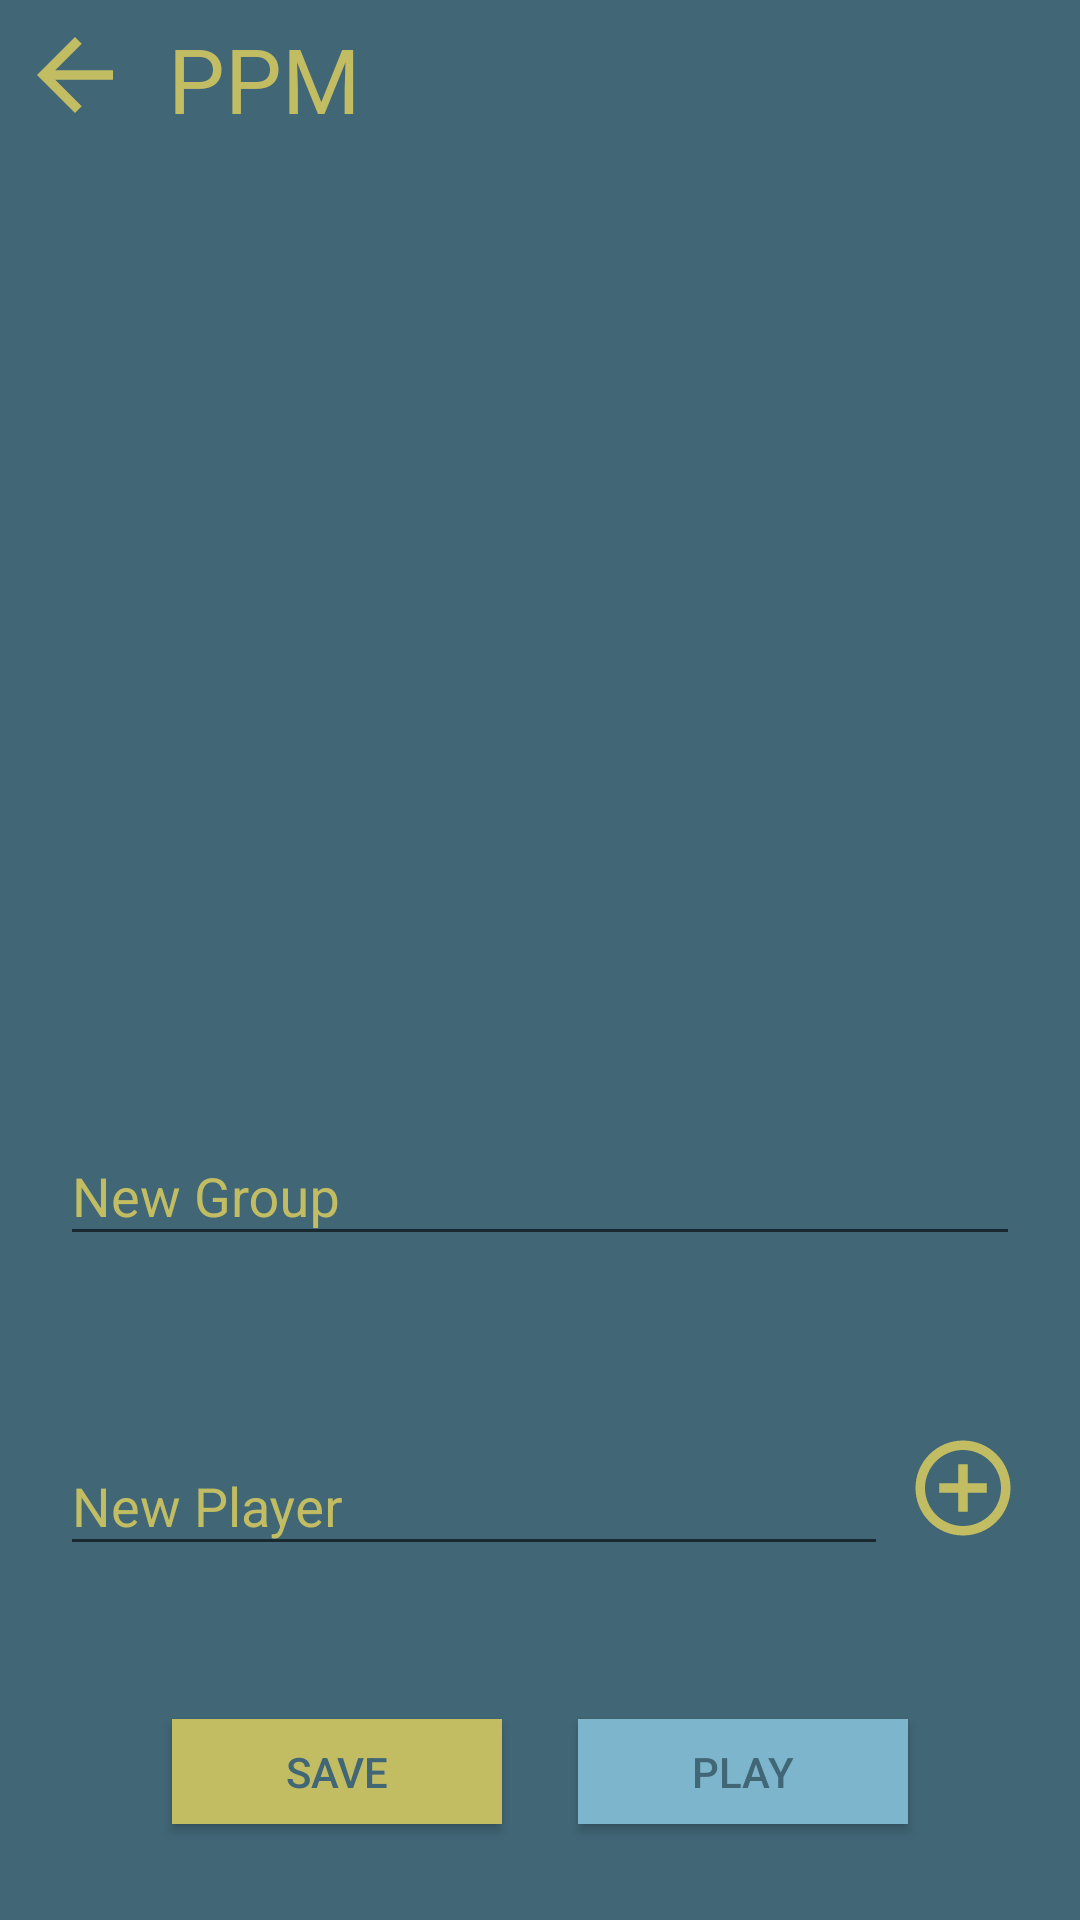

Screen size 1080x1920. Icon name, then its box in pixels as (left=x1, top=y1, right=x2, bottom=y2):
add circle: (left=915, top=1440, right=1011, bottom=1536)
arrow: (left=37, top=37, right=113, bottom=113)
